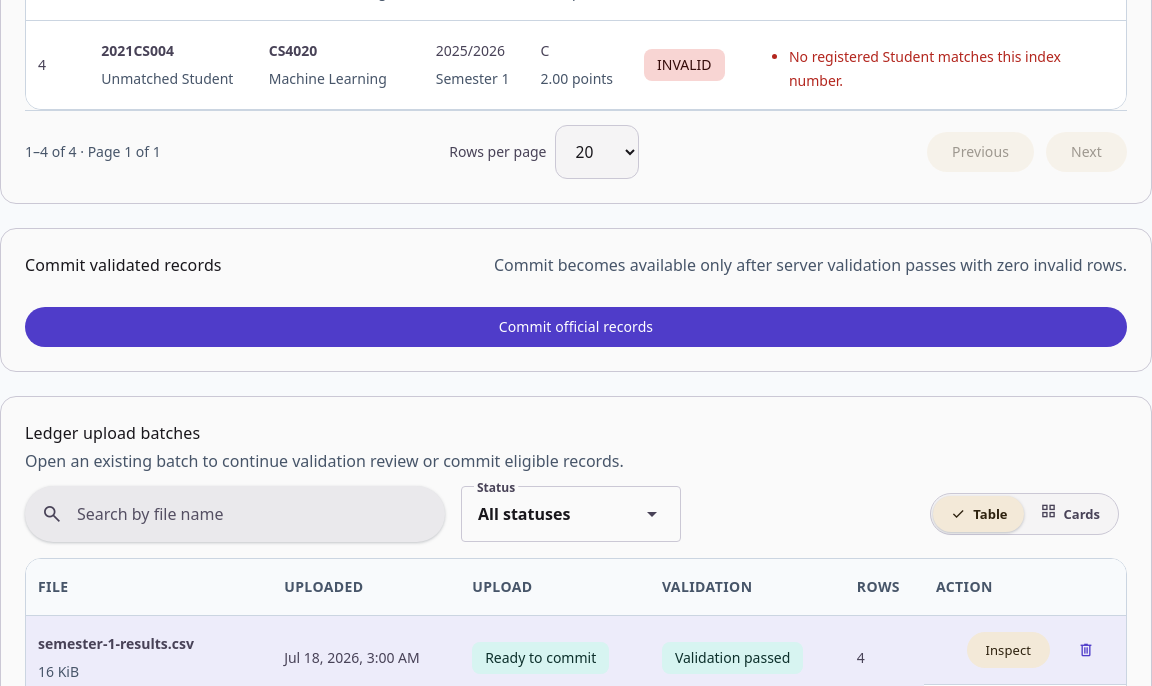
Academic Ledger transactional commit › keeps the confirmation open and maps conflicts to a recoverable message
(page scrolled)
What coordinates should you click on to do the following:
click the button "Commit official records"
I would click on:
 (576, 326)
Its box is [25,306,1127,346].
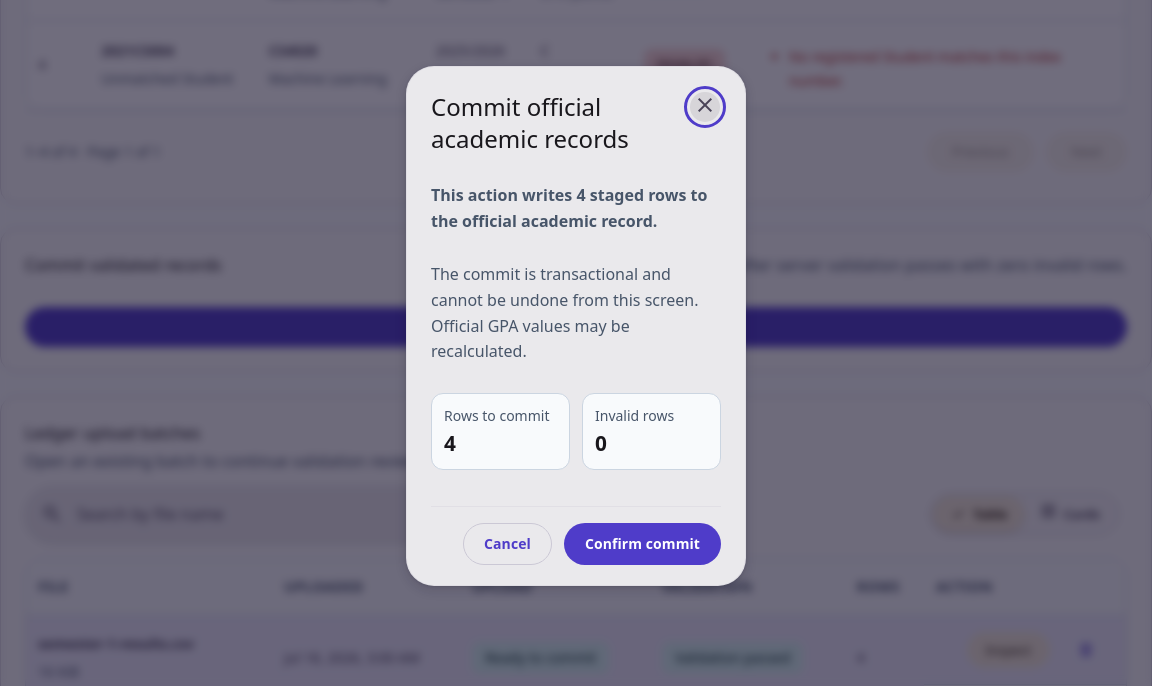
What coordinates should you click on to do the following:
click the button "Confirm commit"
I would click on:
 (642, 544)
Its box is [564,523,721,565].
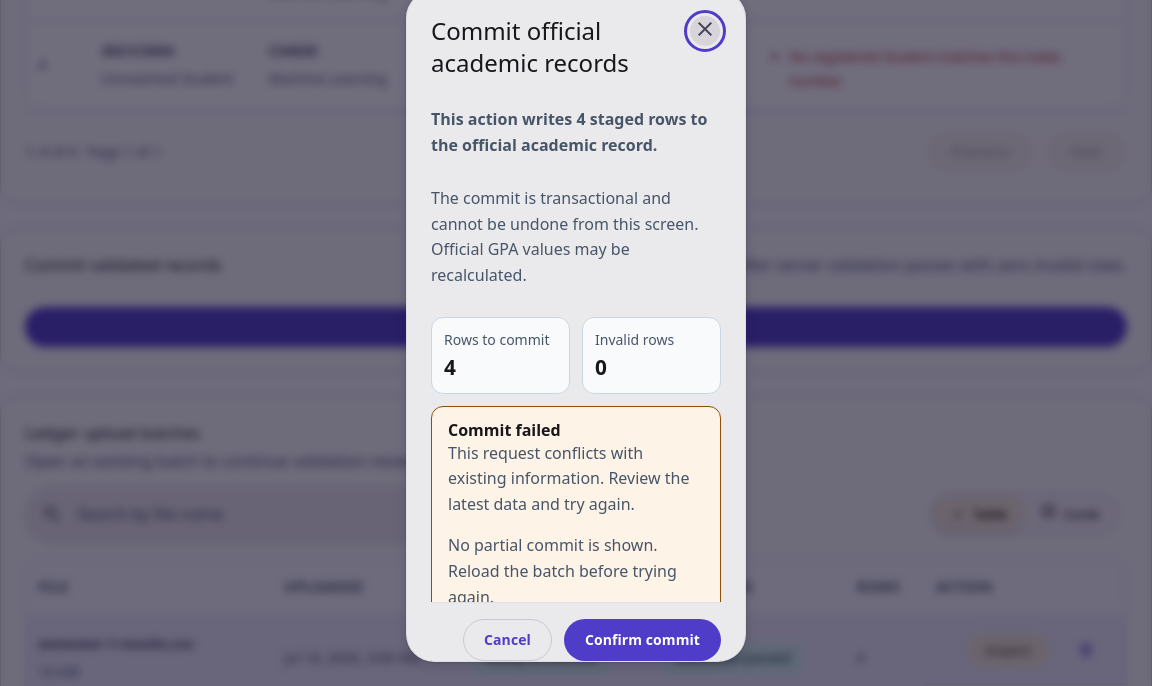
Check: the text "conflicts with existing information" is shown, box [448,442,690,515]
Check: the text "Reference: ledger-409" is shown, box [448,627,613,649]
